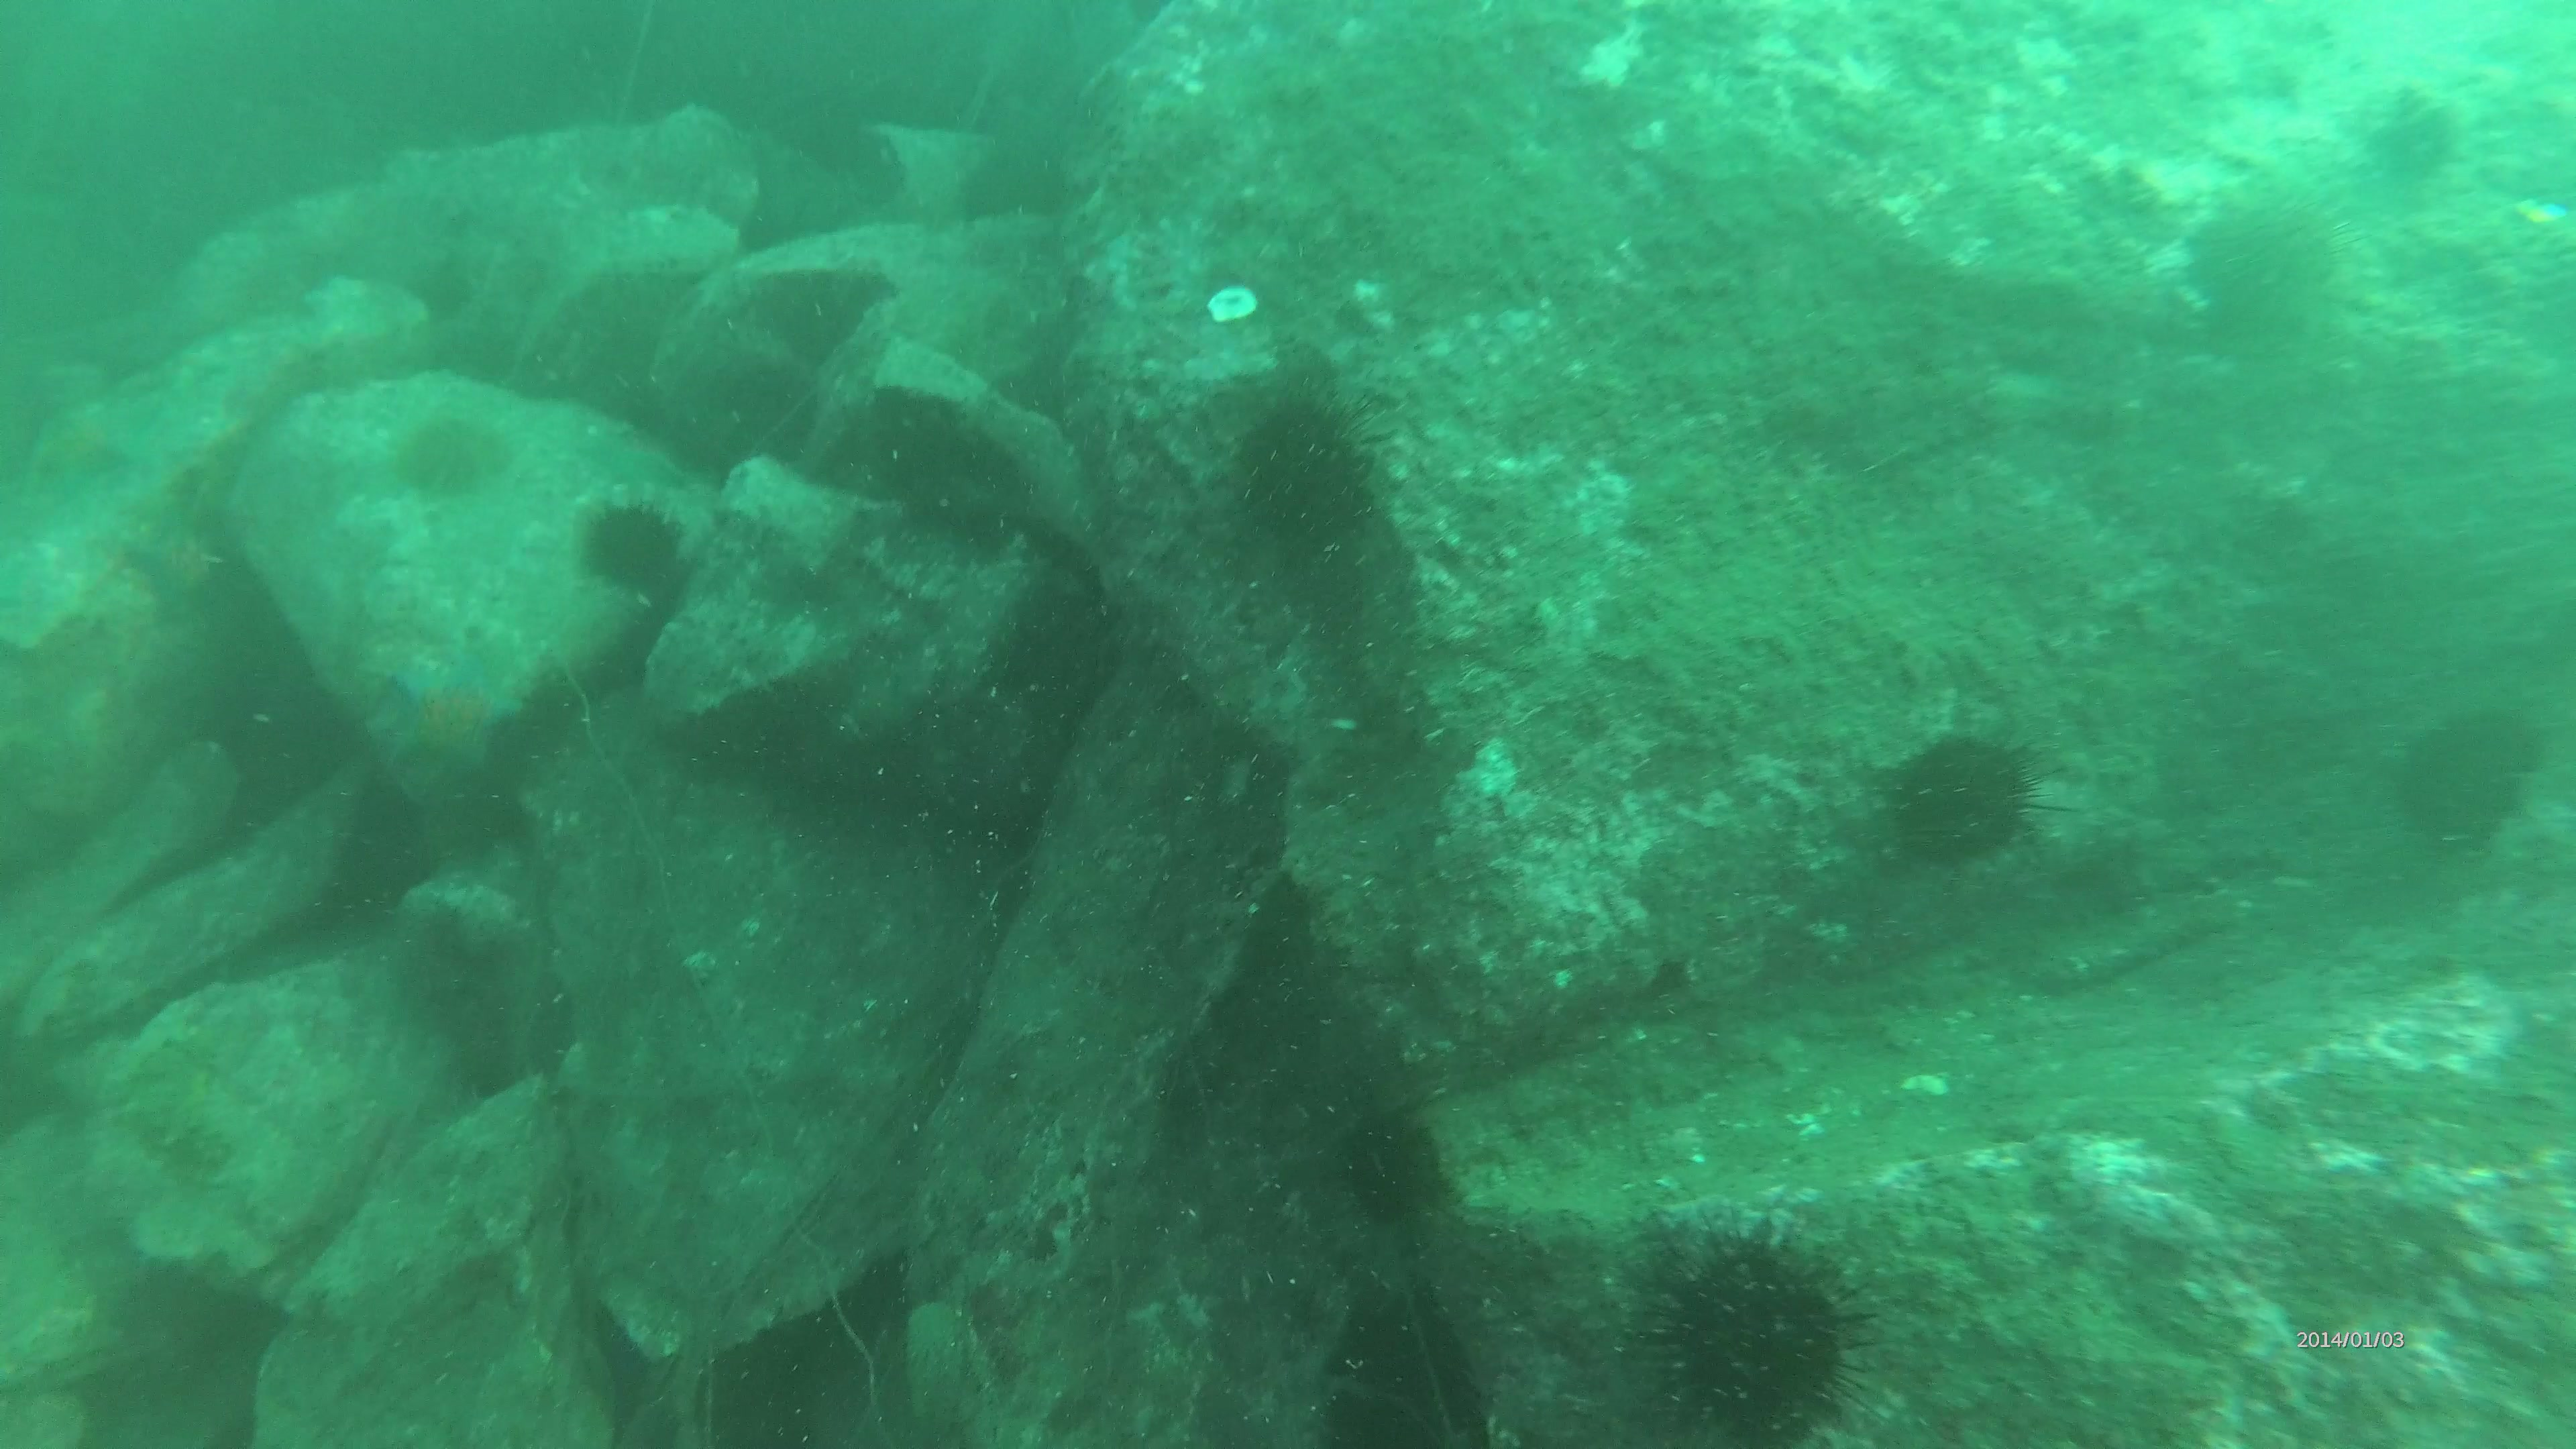echinus: (1631, 1214, 1881, 1445), (1877, 718, 2068, 878), (1235, 384, 1380, 550), (2392, 697, 2542, 853), (379, 410, 527, 502), (1332, 1108, 1447, 1214), (586, 499, 685, 589)
starfish: (372, 646, 538, 782)
